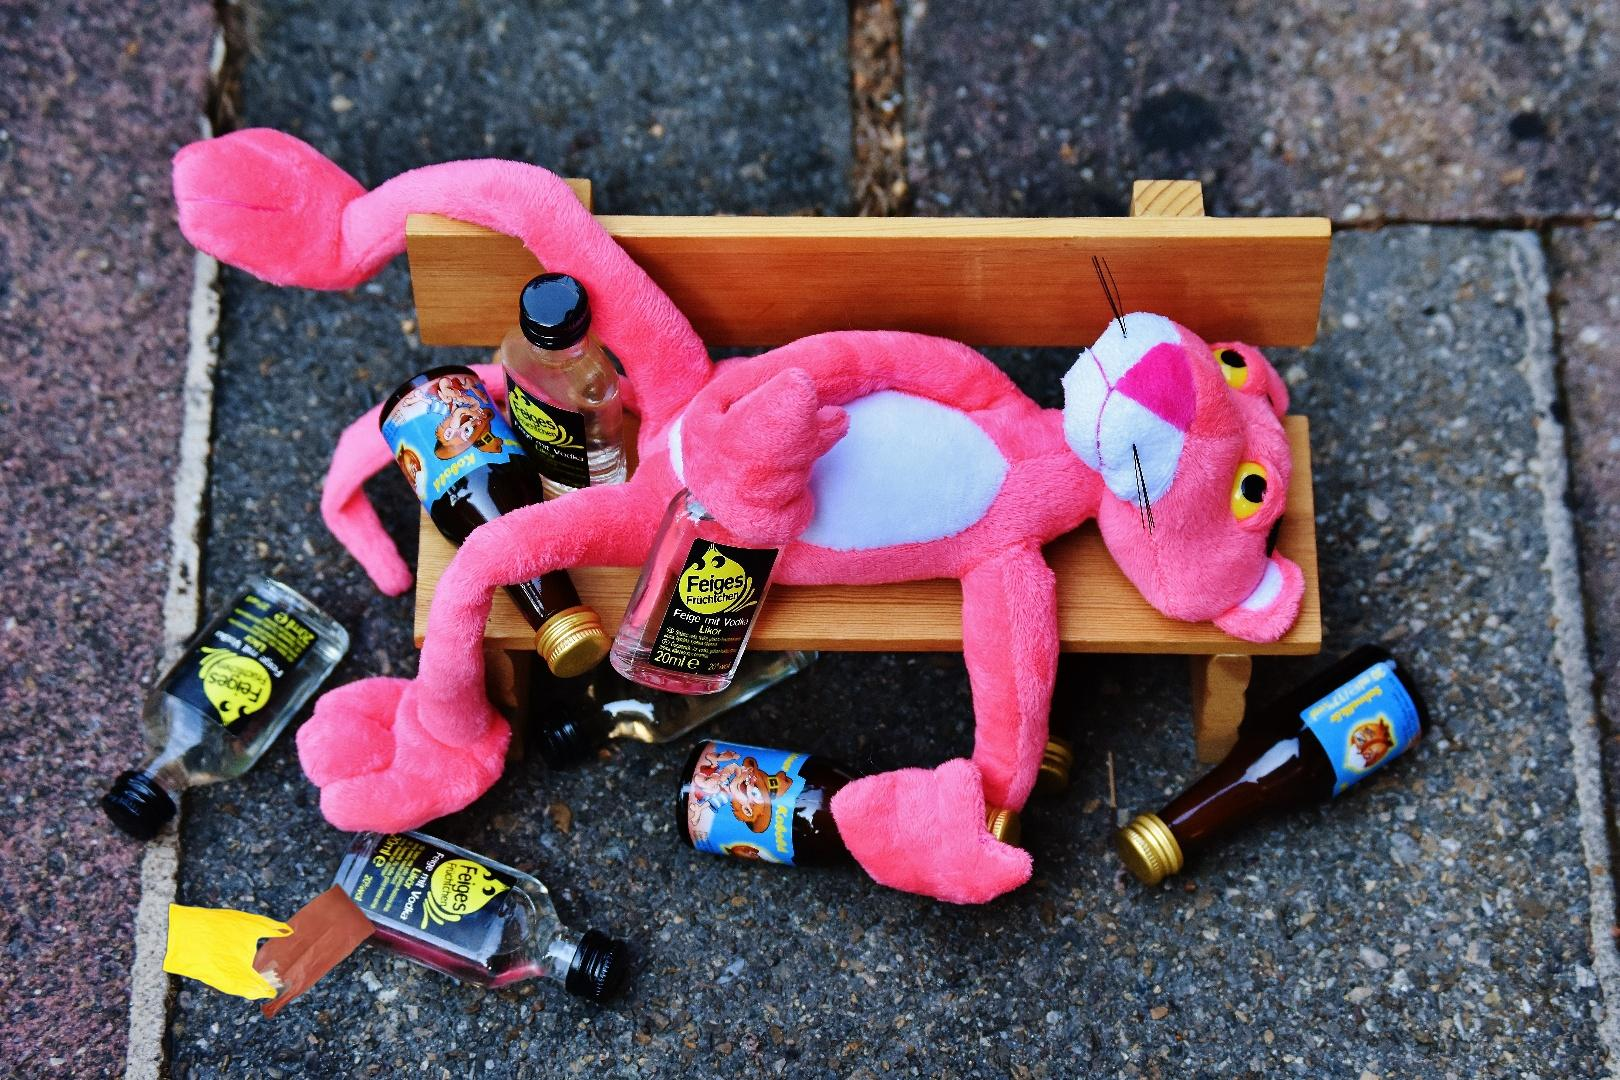penholder: (1513, 204, 1620, 914)
plastic-bag: (159, 880, 382, 1022)
trashbox-cardboard: (399, 957, 911, 1080)
